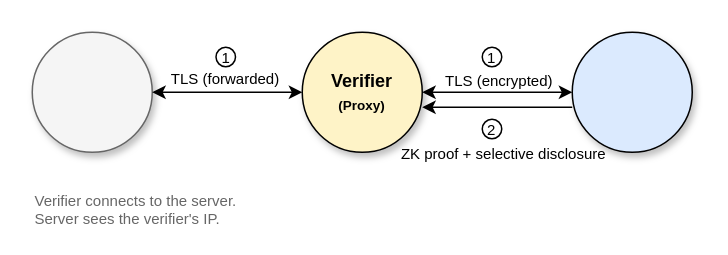
The diagram is 728 pixels wide and 255 high, and some of its shapes have lost their labels. Here are the shapes that lost their labels. From the top down, the centre of each, then its label:
At pixel 93 94: "Server".
At pixel 633 94: "Prover".
